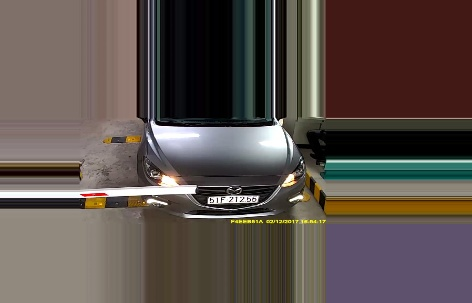plate: (207, 194, 258, 203)
